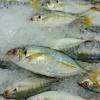Ikan Selar: (3, 45, 86, 80), (24, 8, 82, 34), (1, 76, 58, 99)
